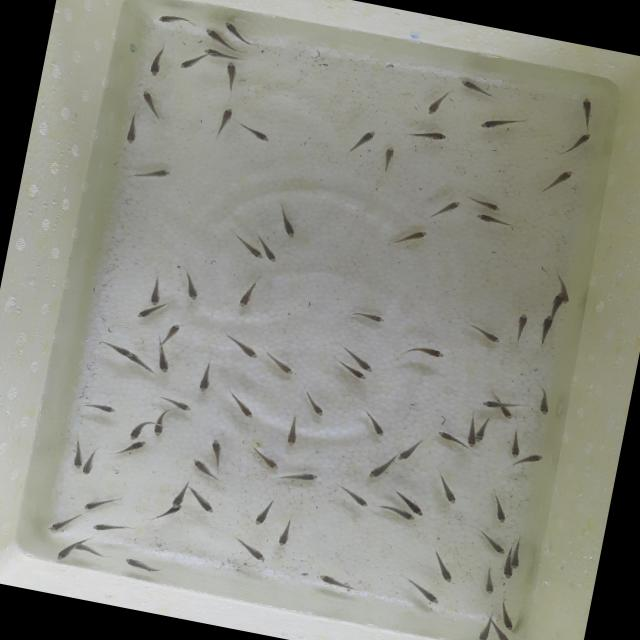fingerling: (130, 86, 168, 122), (403, 578, 451, 606), (560, 125, 593, 164), (386, 224, 430, 252), (86, 516, 136, 540), (540, 162, 576, 195), (344, 344, 382, 374), (314, 571, 361, 595), (428, 551, 461, 584), (473, 212, 520, 234), (118, 550, 161, 574), (406, 125, 450, 148), (248, 444, 284, 472), (115, 120, 146, 152), (227, 392, 260, 422), (454, 78, 499, 100), (228, 235, 266, 261), (225, 335, 263, 360), (338, 484, 374, 510), (262, 350, 298, 376), (419, 90, 450, 120), (349, 124, 378, 156), (406, 340, 448, 362), (464, 194, 506, 216), (217, 61, 245, 94), (475, 566, 502, 600), (471, 322, 506, 348), (132, 162, 171, 185), (146, 44, 169, 82), (436, 476, 465, 506), (273, 512, 297, 548), (298, 391, 330, 418), (212, 104, 236, 140), (478, 110, 514, 134), (202, 44, 245, 64), (219, 19, 252, 45), (231, 538, 268, 561), (200, 28, 237, 51), (484, 496, 512, 526), (429, 196, 459, 224), (429, 426, 467, 448), (476, 530, 508, 556), (184, 454, 218, 478), (152, 8, 189, 30), (98, 338, 134, 360), (510, 308, 532, 344), (400, 494, 430, 520), (154, 393, 193, 413), (530, 391, 556, 421), (180, 272, 206, 302), (352, 308, 391, 328), (276, 210, 300, 242), (190, 488, 218, 515), (145, 408, 171, 437), (536, 313, 558, 347), (280, 417, 304, 448), (128, 352, 160, 375), (337, 363, 372, 384), (53, 536, 79, 564), (66, 438, 88, 471), (574, 94, 599, 123), (516, 450, 548, 472), (362, 412, 389, 438), (394, 439, 420, 466), (252, 501, 276, 530), (284, 467, 320, 486), (366, 457, 391, 484), (236, 278, 257, 310), (259, 237, 283, 265), (156, 501, 185, 524), (378, 144, 400, 174), (178, 49, 202, 76), (80, 495, 112, 515), (381, 505, 418, 522), (126, 419, 151, 444), (46, 514, 70, 540), (498, 602, 520, 630), (153, 348, 175, 376), (504, 430, 526, 458), (170, 480, 190, 510), (242, 124, 272, 144), (120, 436, 148, 457), (89, 399, 123, 416), (197, 366, 216, 396), (508, 541, 526, 571), (462, 418, 480, 448), (497, 552, 516, 580), (132, 305, 160, 324), (82, 449, 100, 478), (554, 277, 572, 304), (206, 434, 227, 457), (473, 617, 493, 640), (162, 322, 182, 344), (548, 294, 566, 318), (148, 280, 163, 308), (477, 417, 491, 445), (497, 403, 517, 422), (76, 544, 106, 556), (478, 398, 502, 412), (495, 629, 512, 640)
